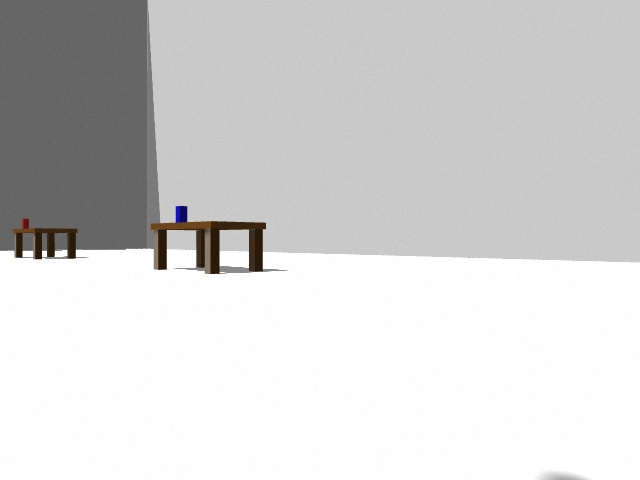blue_cube: (176, 206, 187, 223)
